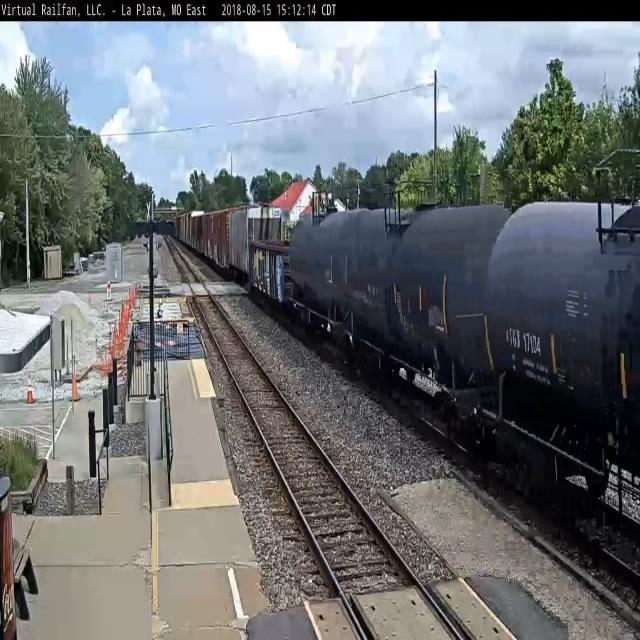gondola: (245, 232, 294, 316)
tank: (474, 172, 640, 558), (341, 187, 508, 444), (286, 194, 363, 352)
